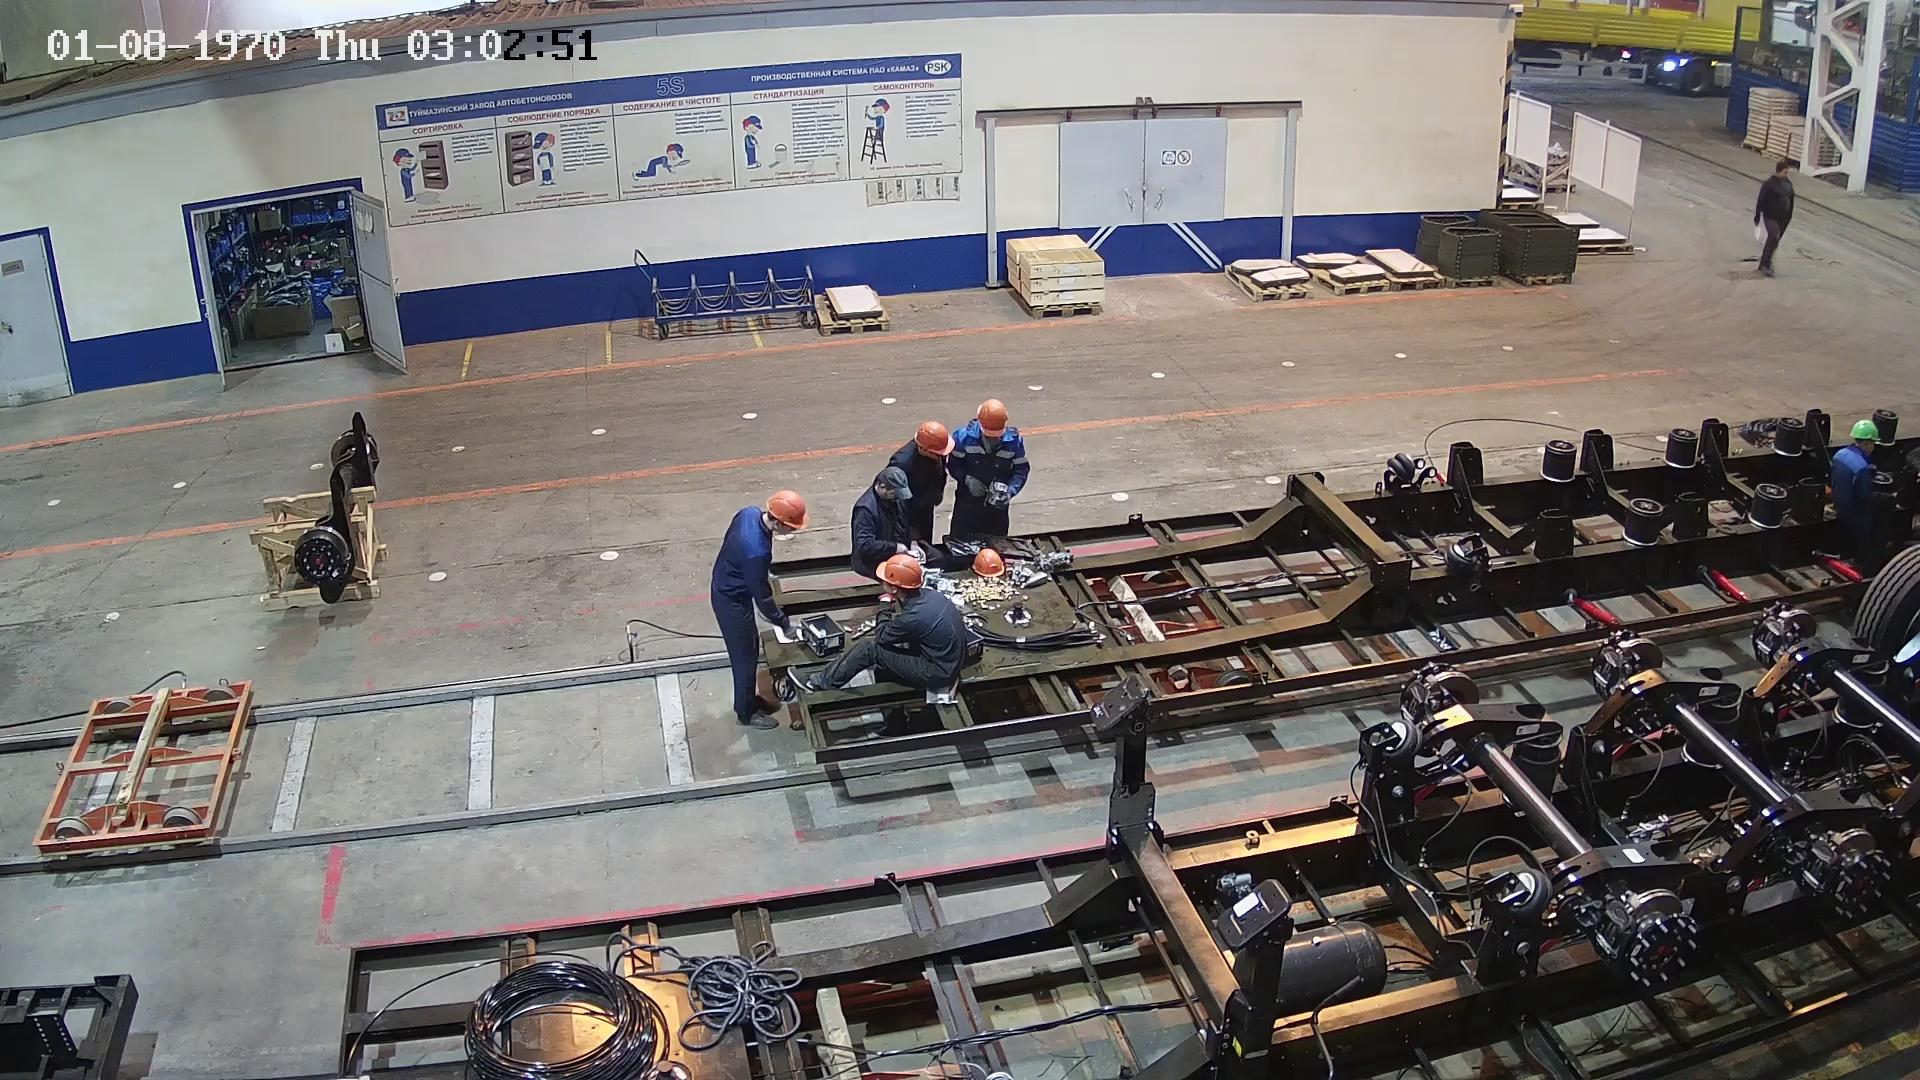helmet: (876, 548, 927, 588), (764, 486, 811, 529), (924, 416, 956, 462), (978, 398, 1009, 436), (1854, 418, 1881, 449)
person: (702, 478, 809, 734), (844, 556, 974, 695), (1824, 398, 1887, 571), (962, 394, 1028, 547), (910, 396, 953, 553), (1756, 156, 1799, 284), (862, 466, 911, 556)
